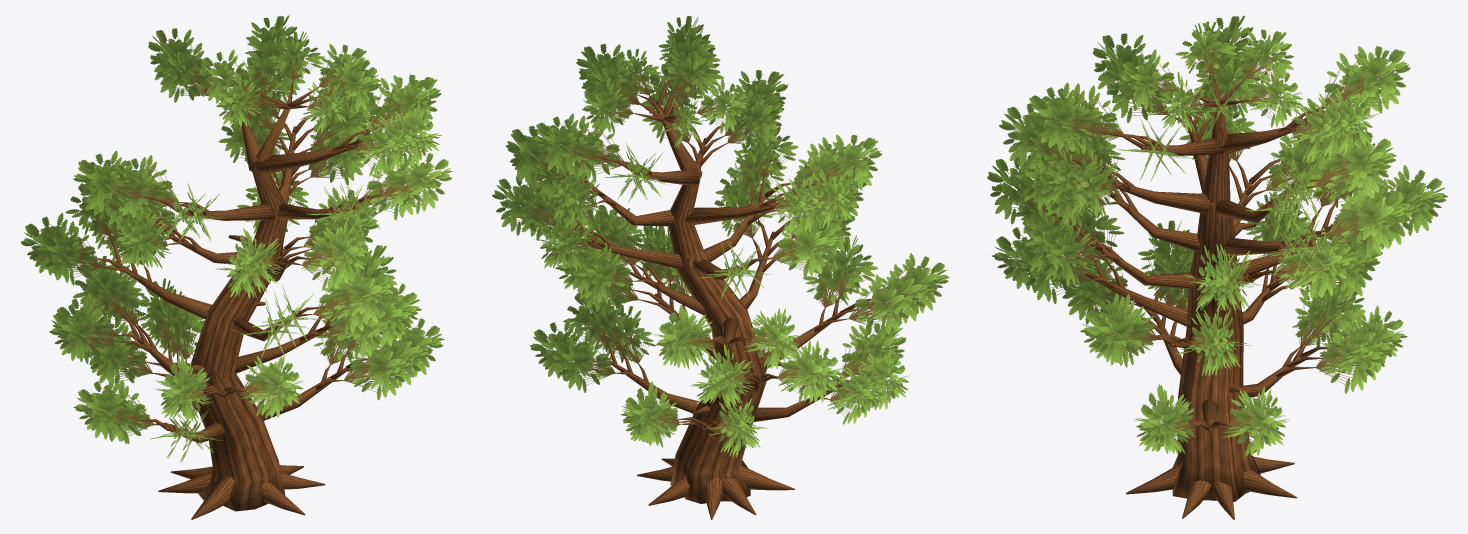
The model's file is AncientOak.fbx.
The picture shows the model from 3 angles, left to right: view 1: azimuth 30°, elevation 25°; view 2: azimuth 150°, elevation 25°; view 3: azimuth 270°, elevation 25°; orthographic projection. The views are drawn at different scales.
Visible parts, largest first — view 1: SM_AncientOak_Foliage_LOD0, SM_AncientOak_Bark_LOD0; view 2: SM_AncientOak_Foliage_LOD0, SM_AncientOak_Bark_LOD0; view 3: SM_AncientOak_Foliage_LOD0, SM_AncientOak_Bark_LOD0.
Boxes of the visible parts, box(x1,y1,x2,y2) form: SM_AncientOak_Foliage_LOD0: box(21, 15, 452, 462); SM_AncientOak_Bark_LOD0: box(96, 74, 383, 519); SM_AncientOak_Foliage_LOD0: box(492, 16, 949, 457); SM_AncientOak_Bark_LOD0: box(561, 74, 872, 519); SM_AncientOak_Foliage_LOD0: box(987, 15, 1447, 456); SM_AncientOak_Bark_LOD0: box(1054, 74, 1338, 519).
Size of what is drawn, in the model's own units: 7.5 by 8.13 by 7.47.
Materials: 2 (2 with a texture image).
